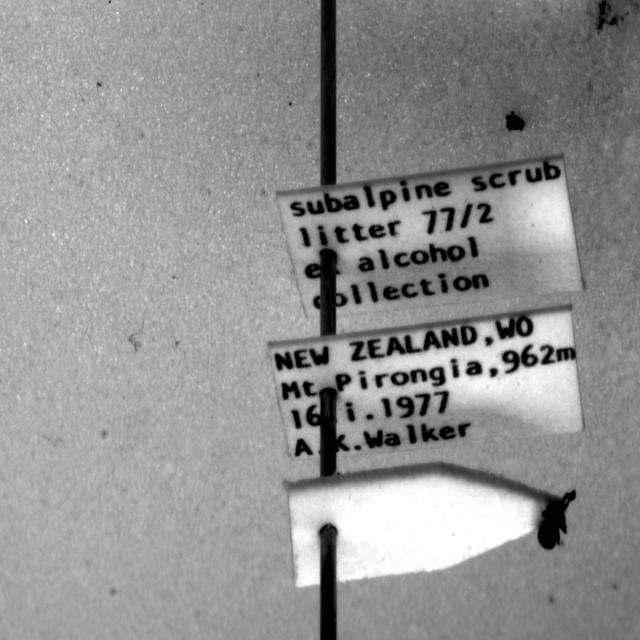typed_label: (278, 156, 584, 317), (270, 308, 582, 458)
